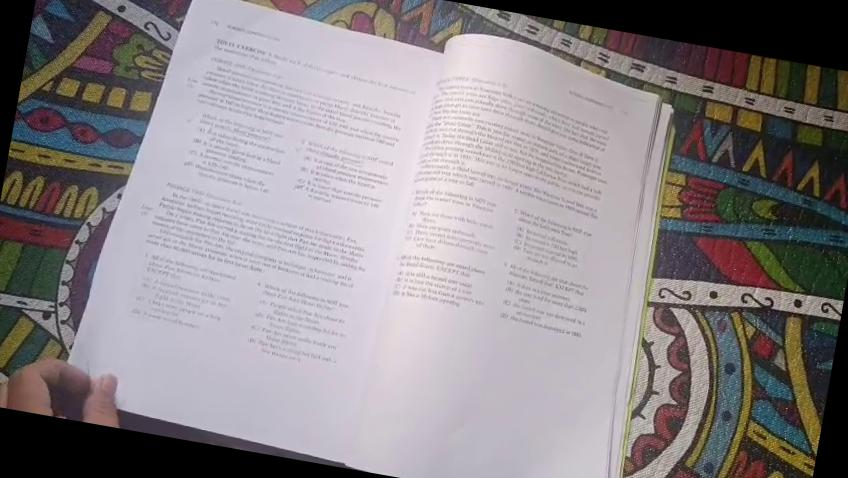Kertas: (71, 0, 439, 459), (349, 35, 658, 477)
